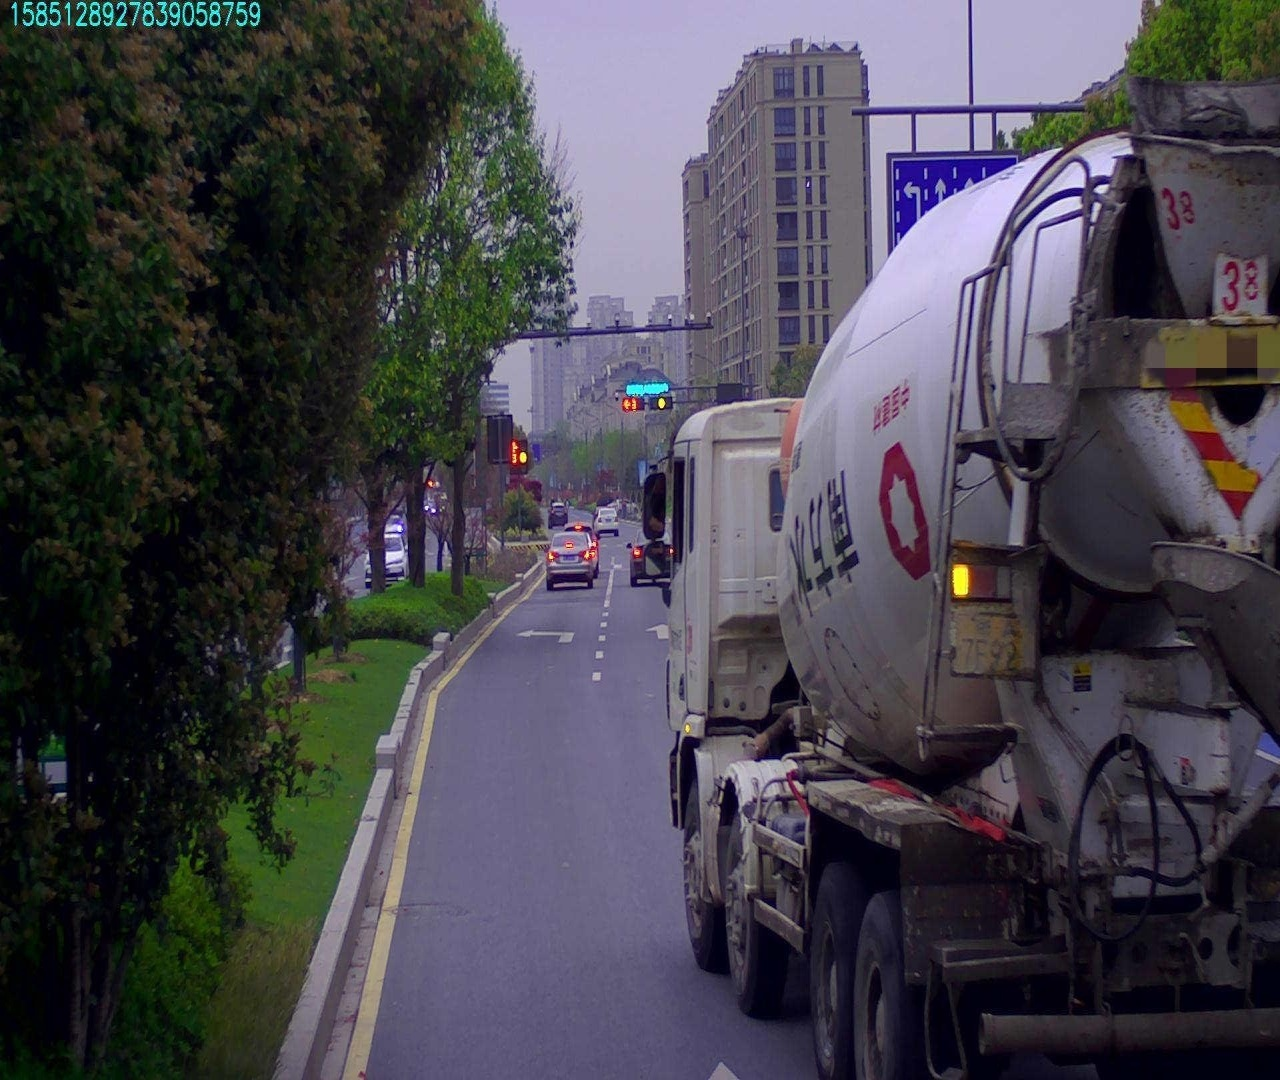red: (618, 396, 642, 410)
yellow: (650, 397, 675, 412)
